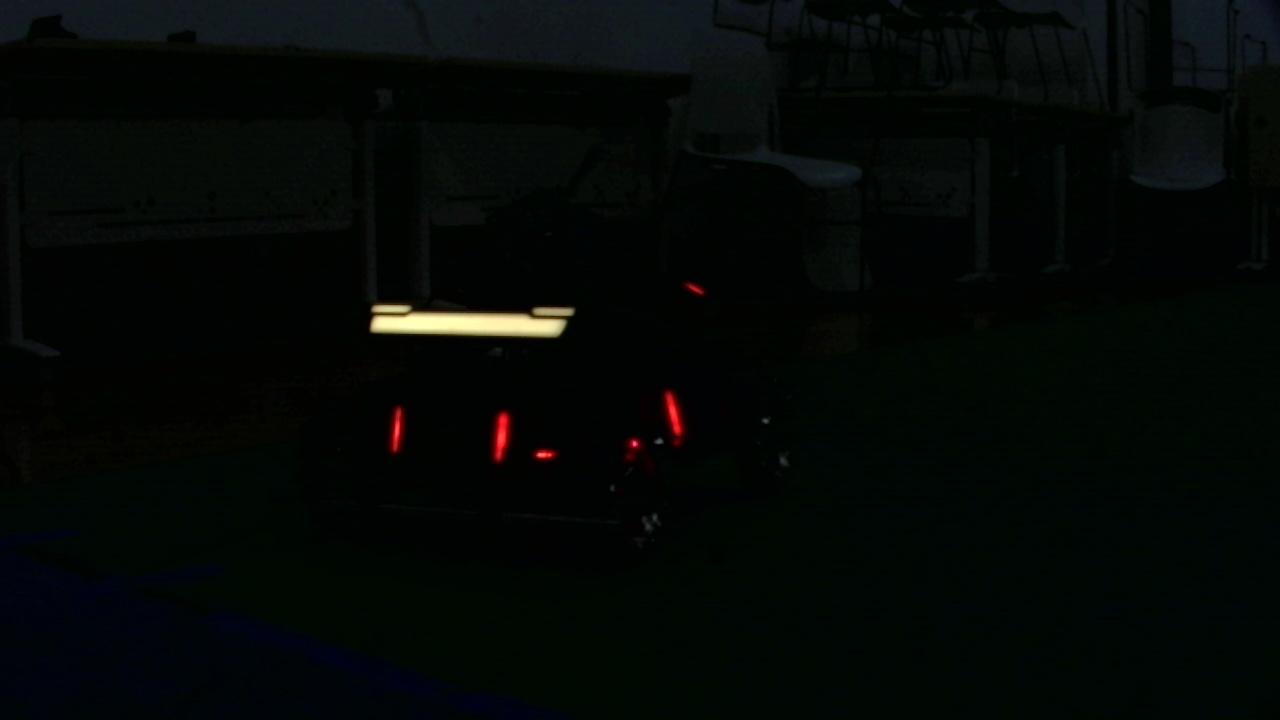lamp: (487, 395, 510, 480), (658, 382, 684, 437), (386, 398, 404, 458)
notpair1: (489, 386, 688, 479)
pair1: (387, 399, 511, 476)
